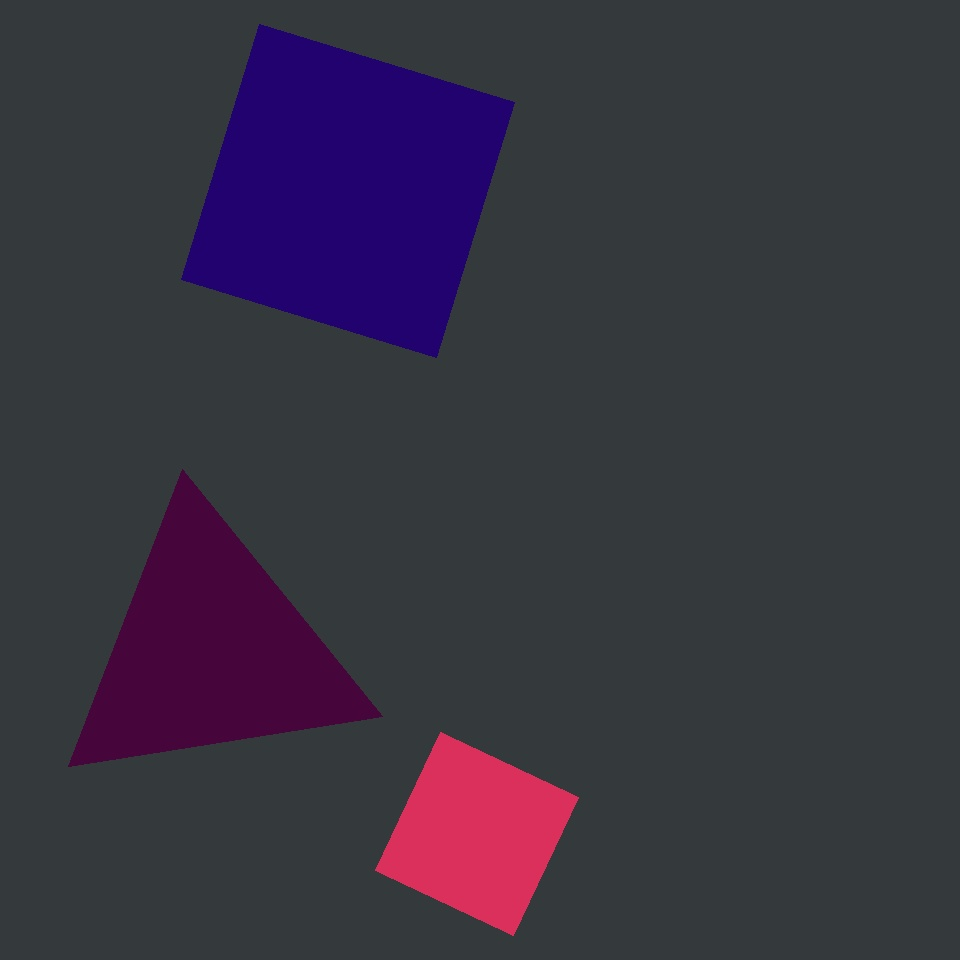circle: (54, 502, 368, 800)
square: (182, 24, 514, 358), (376, 732, 578, 936)
